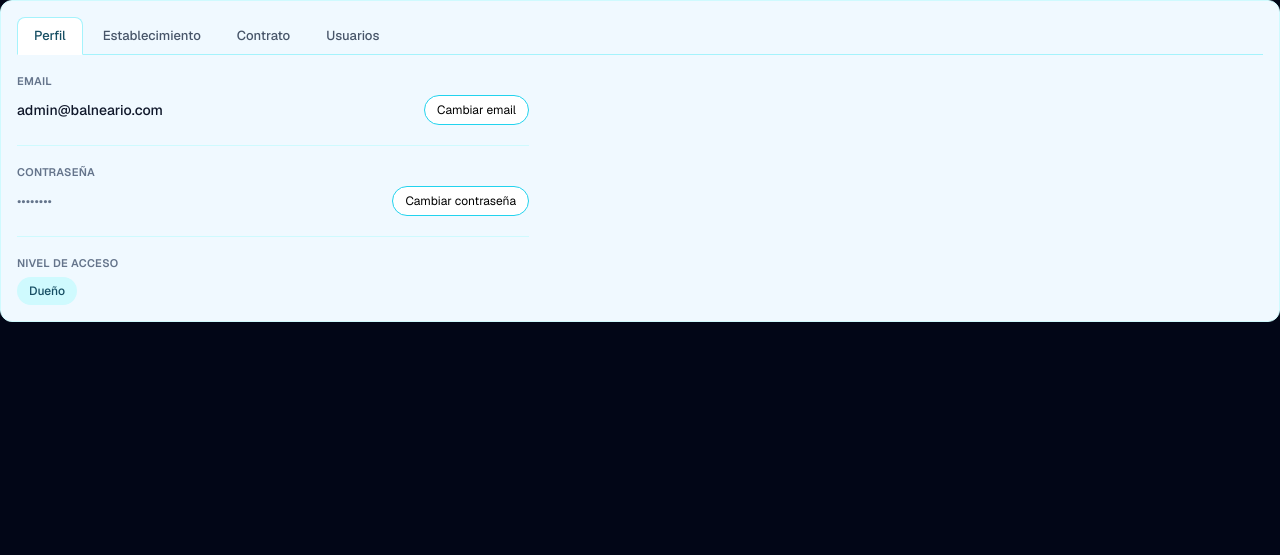
PanelUsuarioSection › avisa si la contrasena nueva tiene menos de 8 caracteres
The width and height of the screenshot is (1280, 555).
Step 1. Click the button "Cambiar contraseña" → (461, 201), box [392,186,529,216]
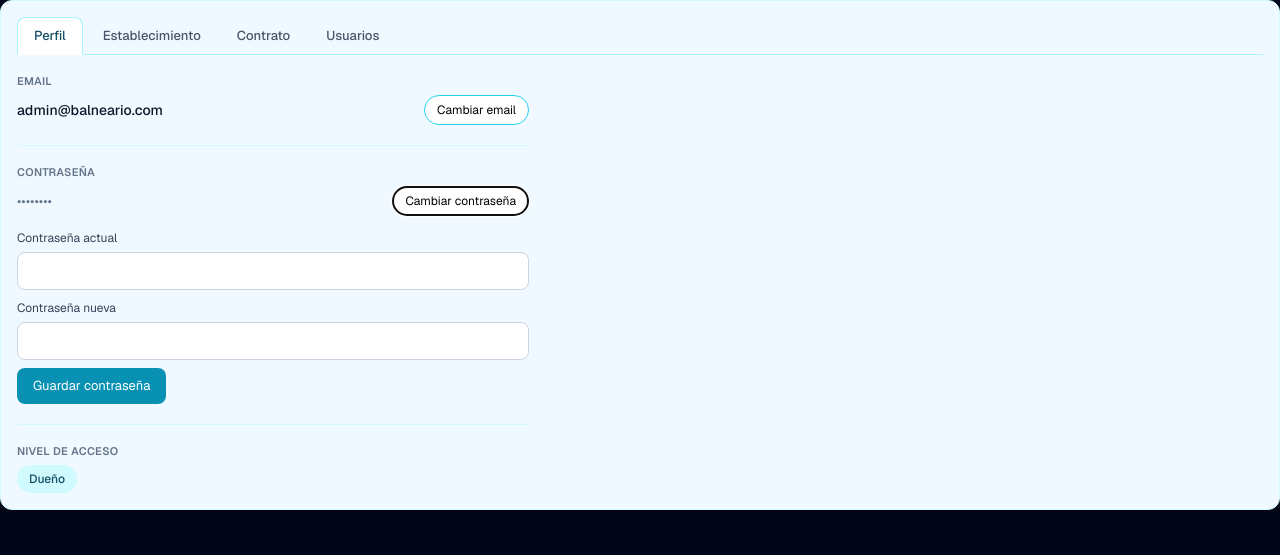
Step 2. Type "admin123" into the password field labelled "Contraseña actual" → (273, 271), box [17,252,529,290]
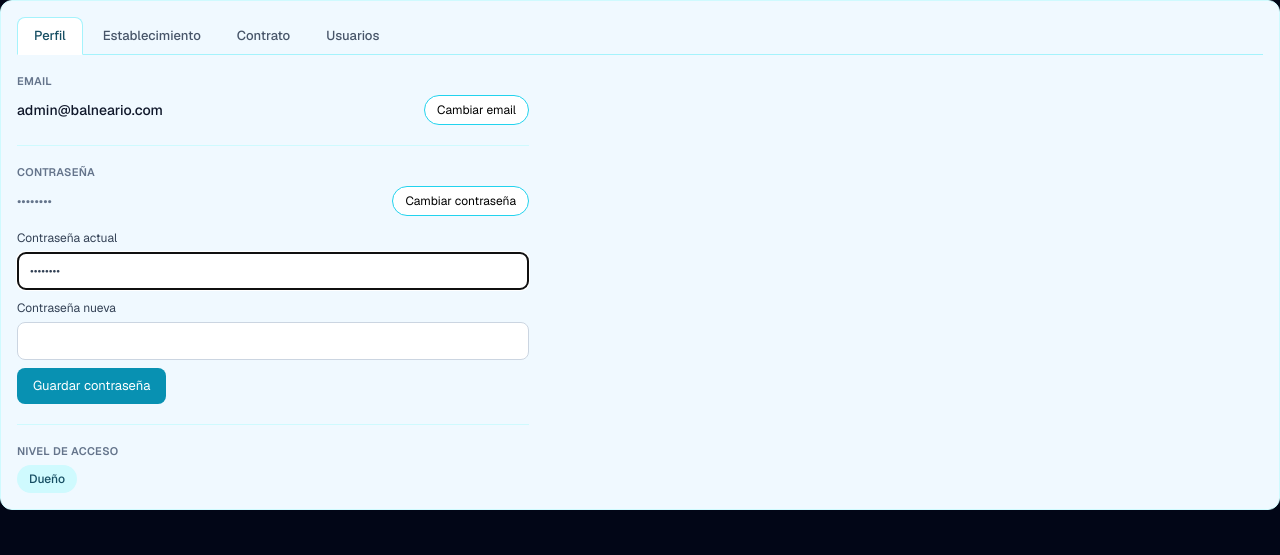
Step 3. Type "corta" into the password field labelled "Contraseña nueva" → (273, 341), box [17,322,529,360]
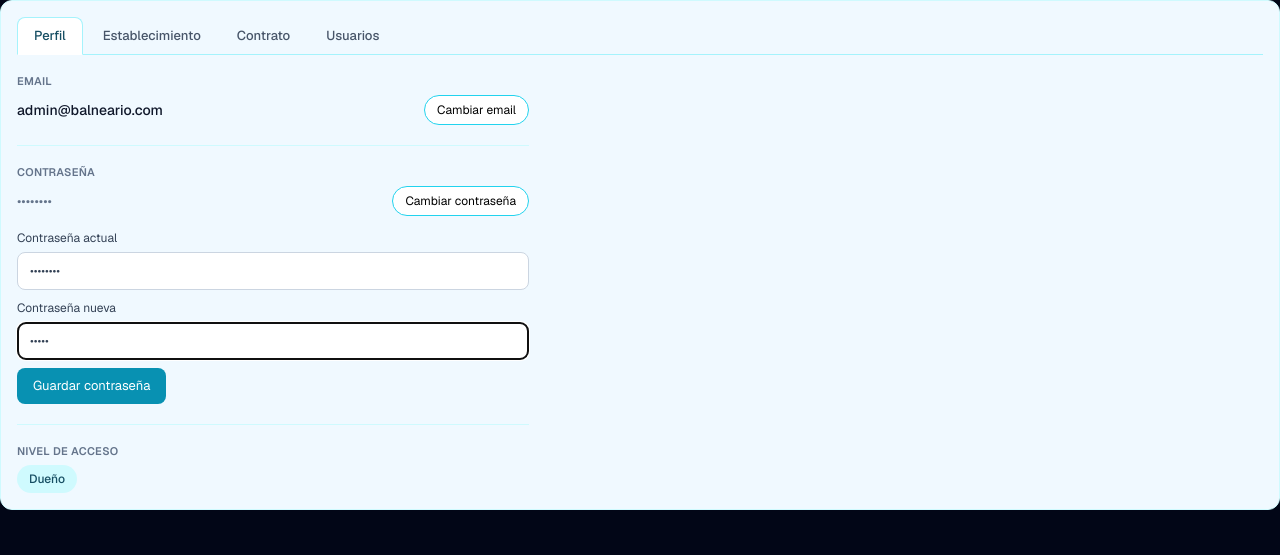
Step 4. Click the button "Guardar contraseña" → (92, 386), box [17,368,166,404]
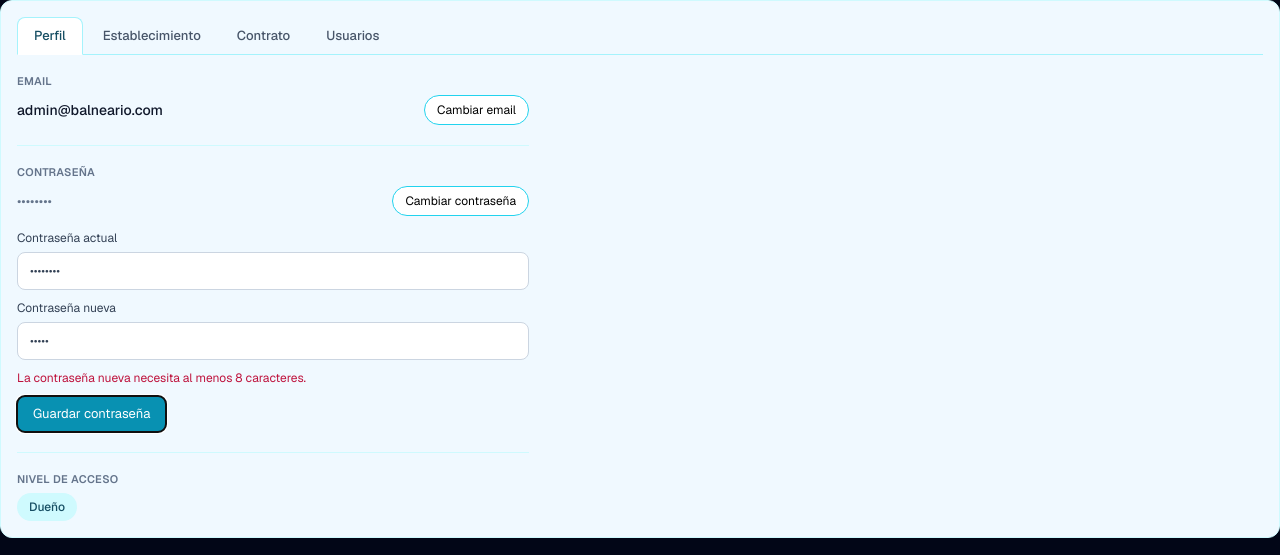
Result: the text "La contraseña nueva necesita al menos 8 caracteres." is shown at [17,370,306,386]
